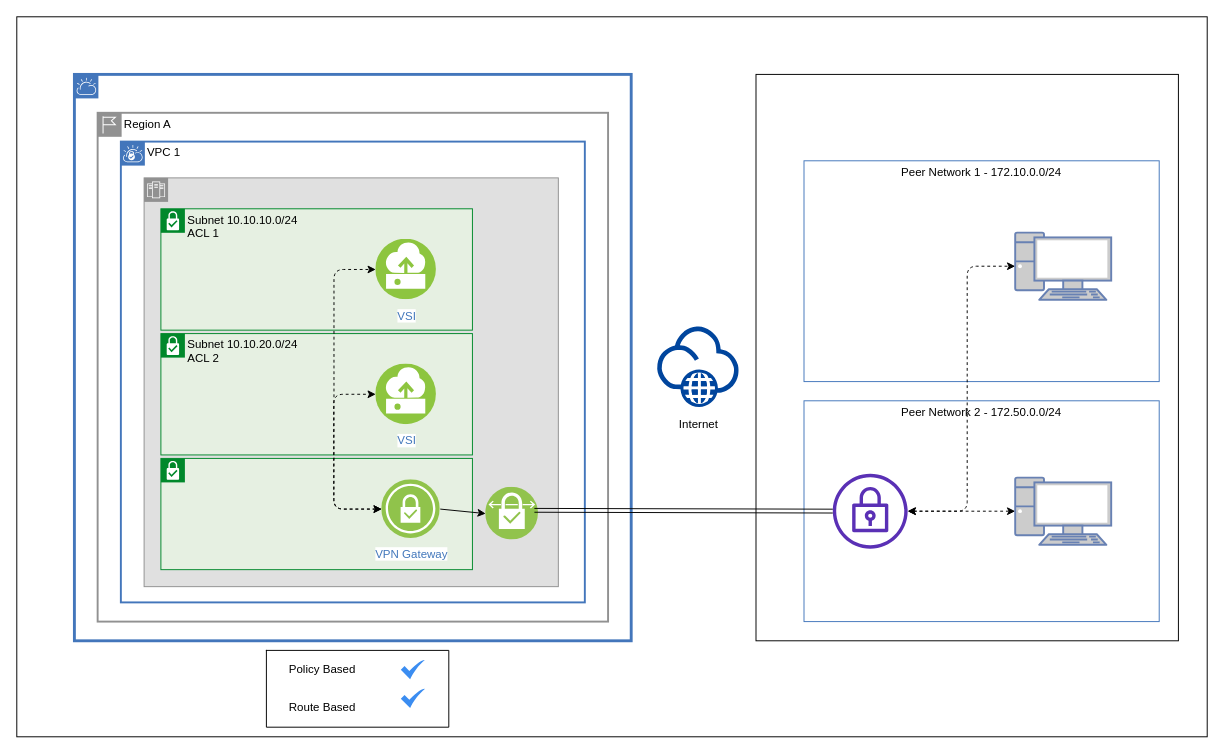
Image size: 1224x754. Some labels were removed from this diagram. The box of each missing label's shape, as (x1, y1, x2, y2) in pixels:
Connection 1: (485, 487, 538, 540)
IBM Cloud: (72, 72, 632, 642)
Peer VPN 1: (832, 473, 907, 548)
Subnet 10.10.20.0/28 ACL 3: (160, 457, 472, 570)
Zone 1: (143, 177, 558, 587)
